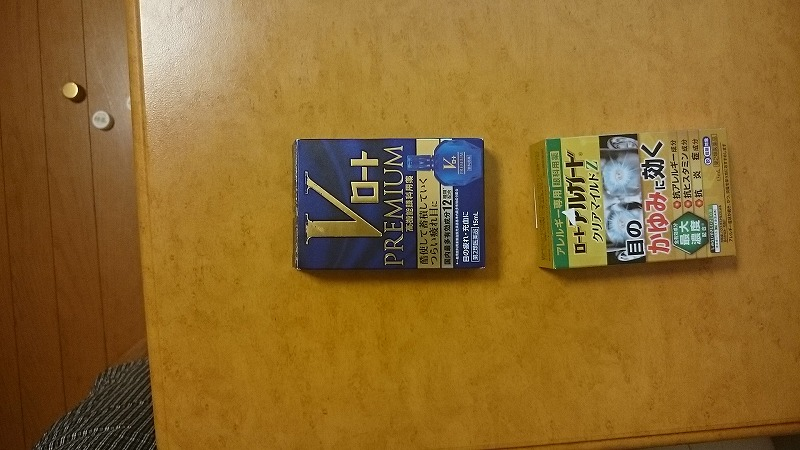C: (526, 127, 738, 271)
D: (290, 135, 494, 274)
